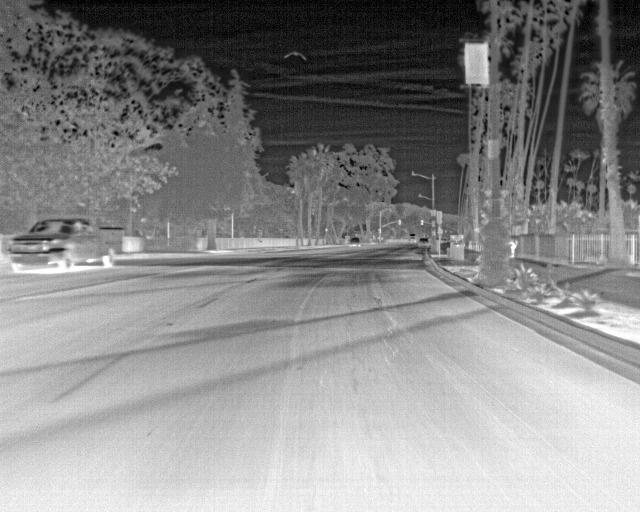car: (8, 217, 125, 271), (417, 237, 430, 249), (405, 232, 418, 244), (348, 238, 359, 250)
